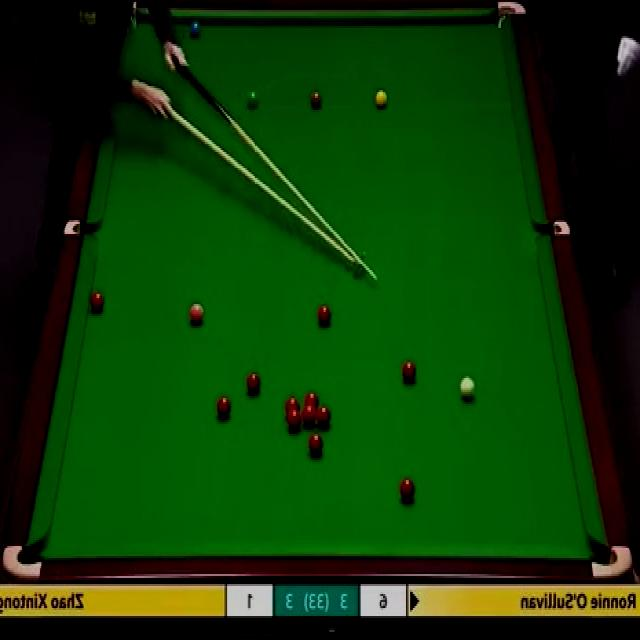pocket: (2, 544, 42, 583), (590, 544, 634, 579), (496, 1, 528, 30), (536, 221, 570, 240), (64, 222, 98, 240)
